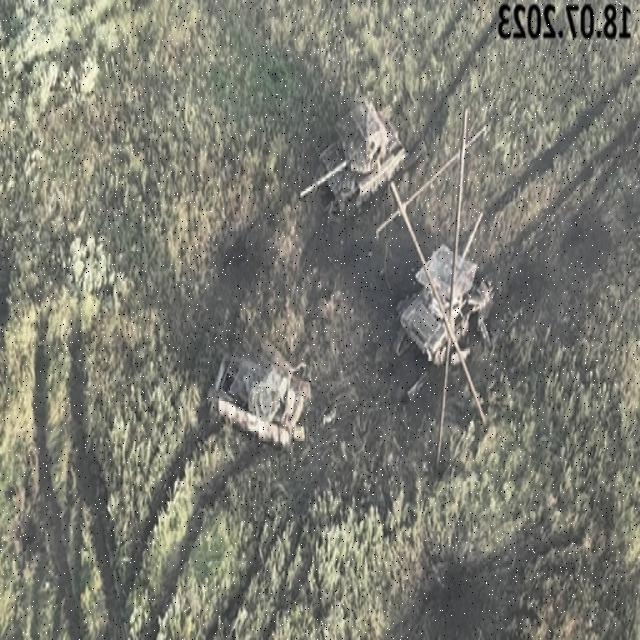APC-IFV: (209, 340, 309, 451)
TANK: (398, 202, 496, 368), (296, 98, 412, 218)
